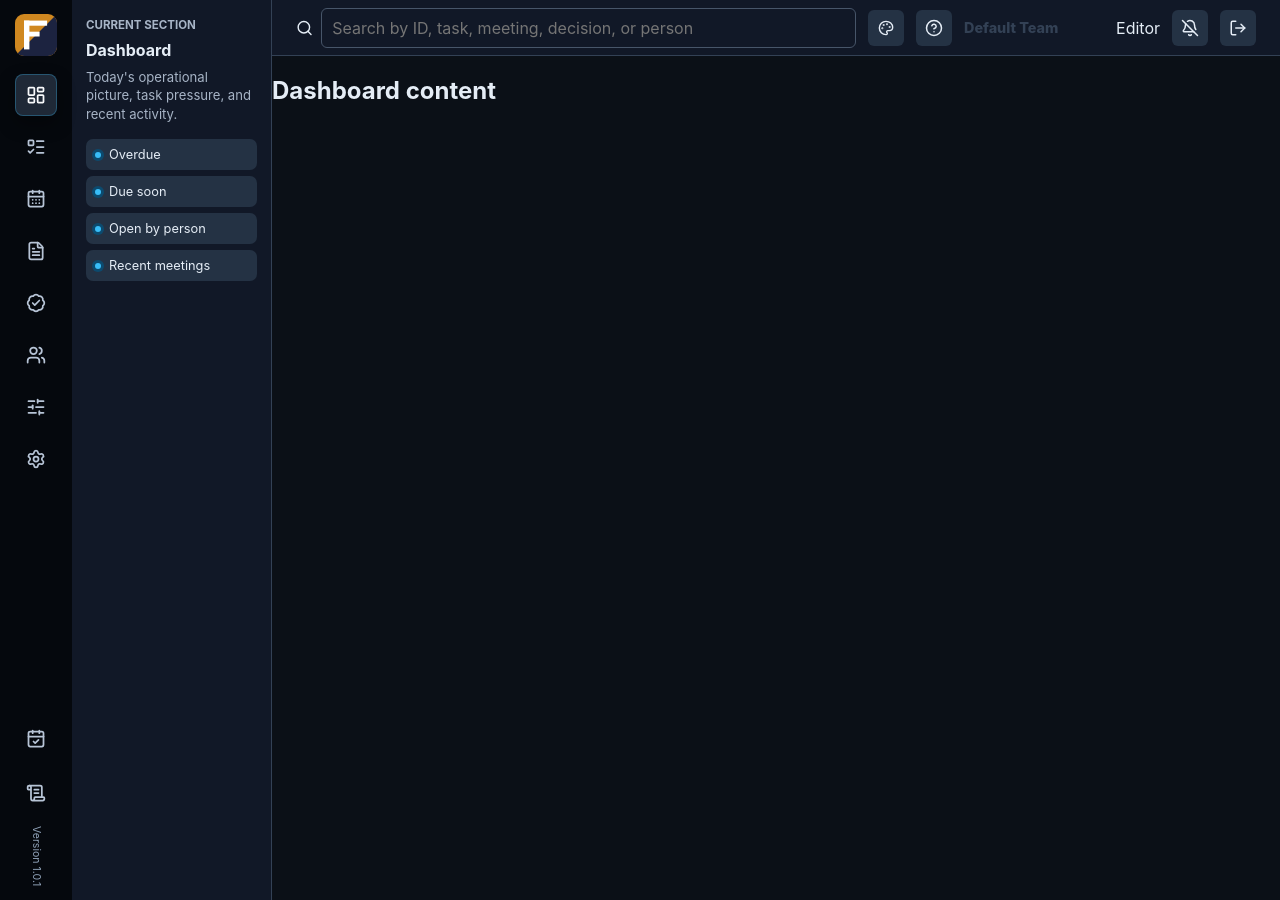
Test: AppShell split context rail › relaunches the guided tour from the topbar
Click the button named "Start guided tour": (934, 28) x1=916 y1=10 x2=952 y2=46
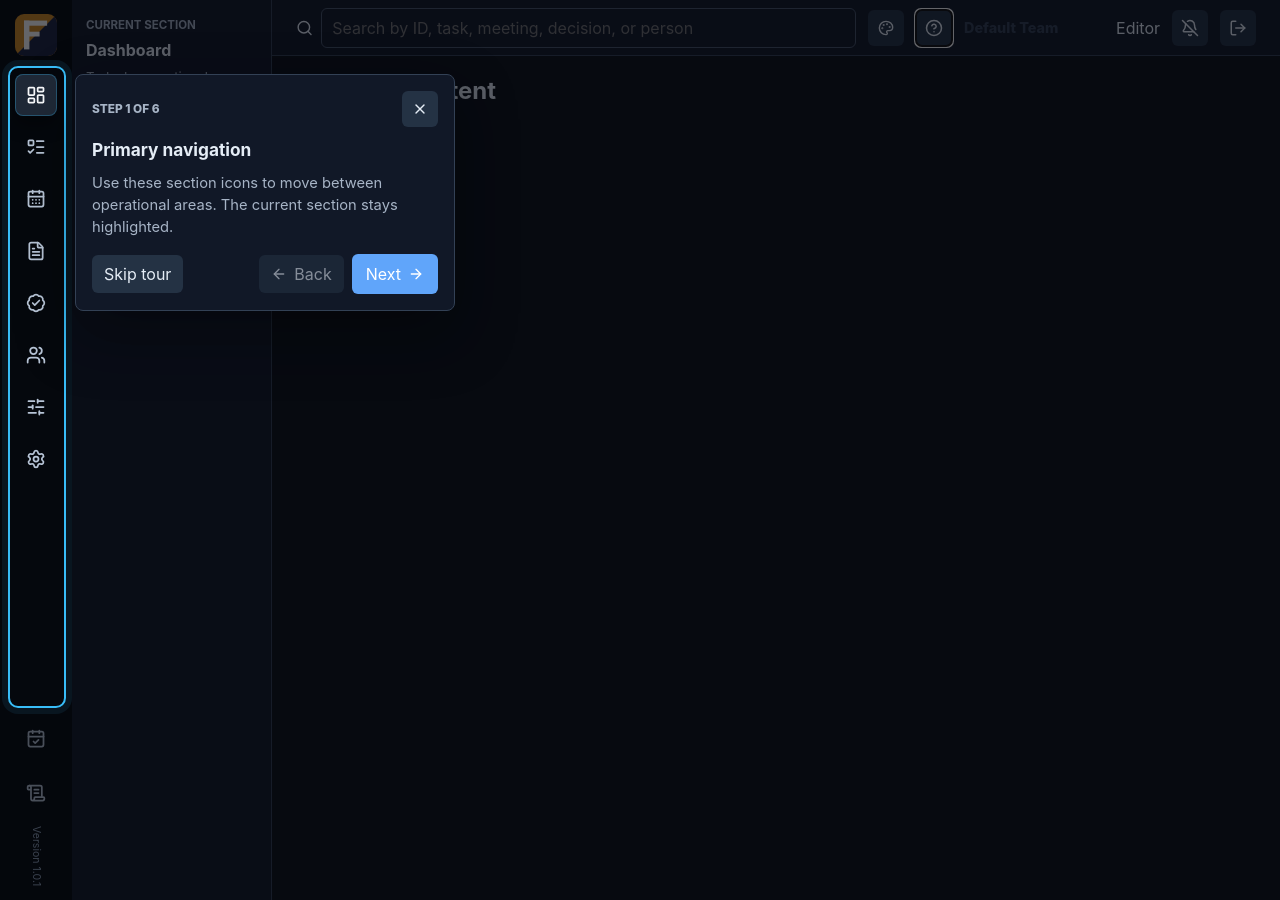
Expected: the dialog named "Guided tour" is shown, x1=75 y1=74 x2=455 y2=311
Expected: the heading "Primary navigation" is shown, x1=92 y1=139 x2=251 y2=160
